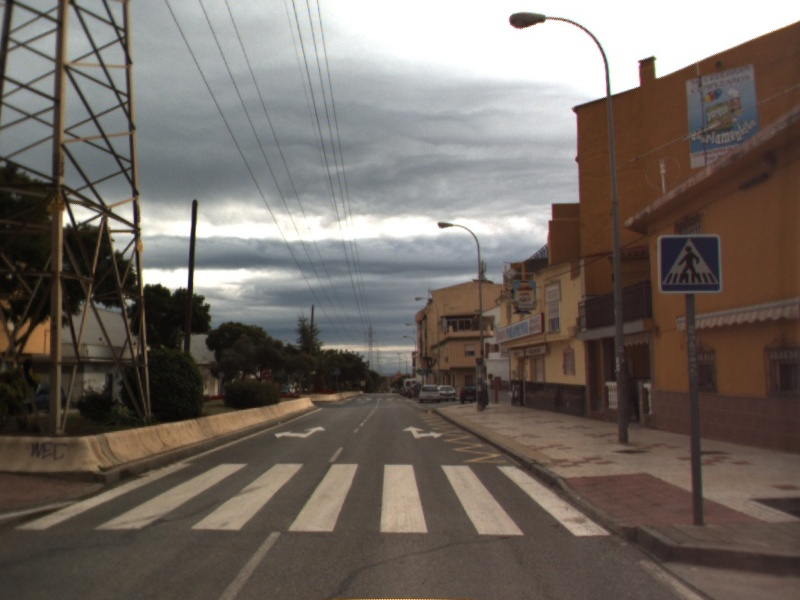STRAIGHT_LEFT: (272, 424, 328, 440)
STRAIGHT_RIGHT: (400, 424, 445, 441)
